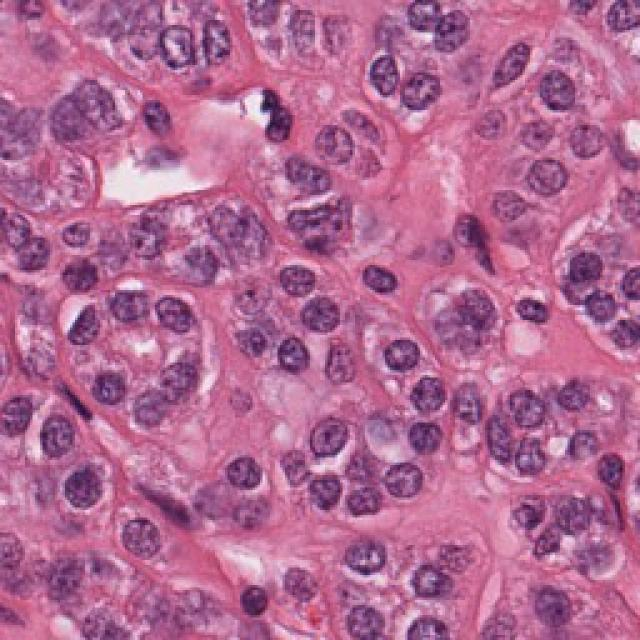abnormal: (52, 50, 128, 154), (360, 316, 450, 390), (43, 446, 121, 530), (101, 496, 174, 583), (87, 275, 172, 349), (299, 93, 364, 189), (295, 393, 364, 482), (133, 12, 206, 96), (337, 512, 402, 603), (497, 362, 562, 452), (257, 237, 331, 310), (518, 137, 585, 214), (524, 52, 594, 124), (116, 370, 176, 451), (396, 58, 456, 135), (356, 32, 416, 108)
